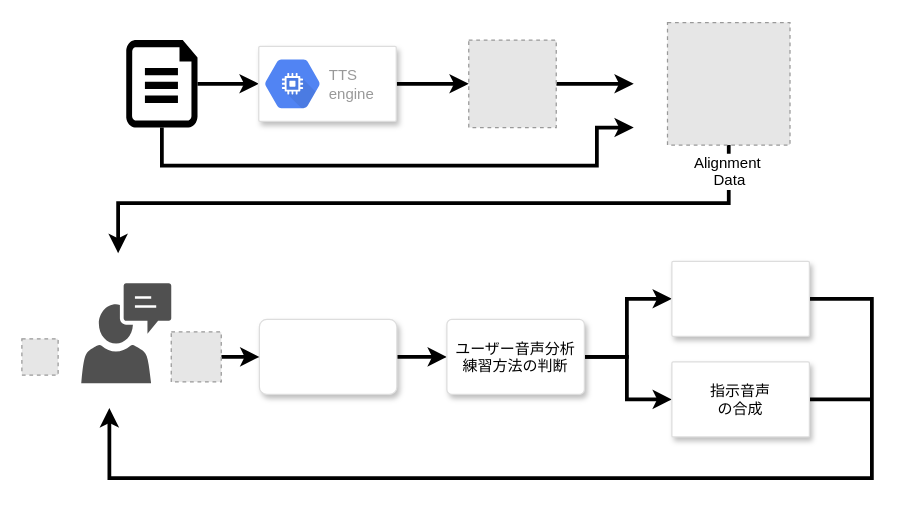
Some shapes in this 905 by 511 pixel diagram are drawn without their labels. Grey dashed boxes stand in for pictures. The centre of each missing label's shape, as x and y in pixels:
"ASR エンジン" belongs at pixel 328 358.
"再生コントローラ" belongs at pixel 741 300.
